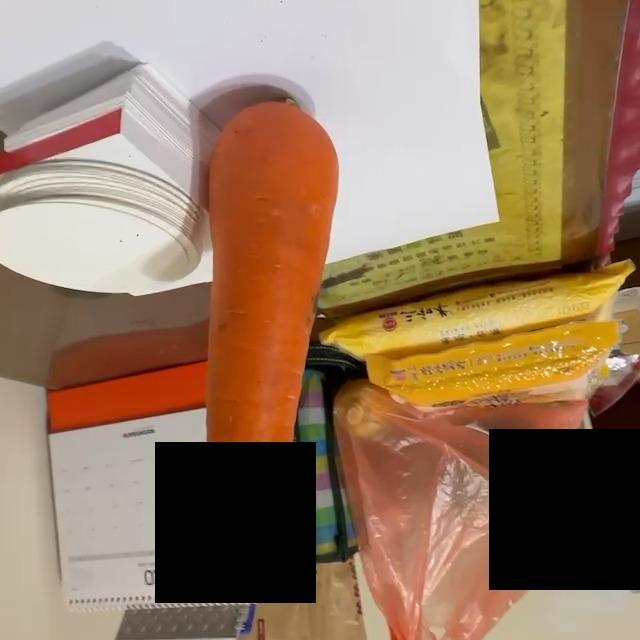carrot: (206, 96, 342, 564)
